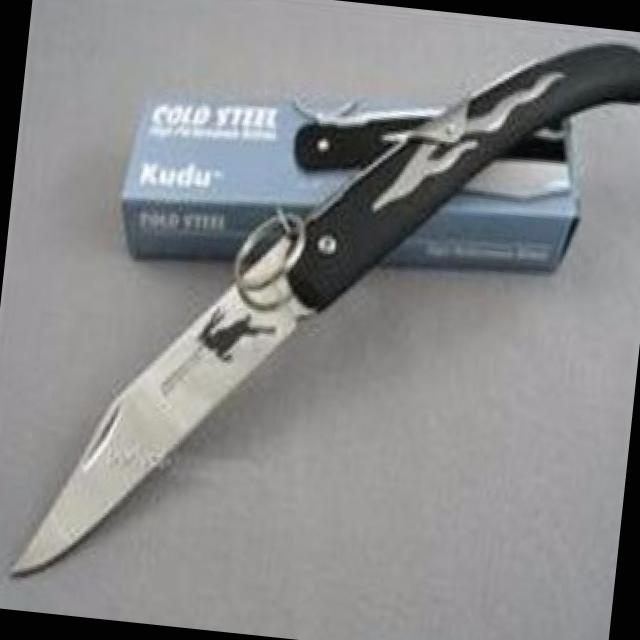knife: (0, 202, 343, 610)
